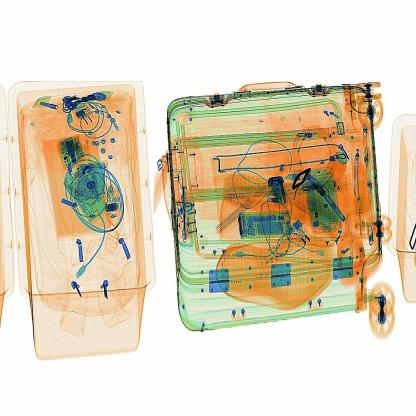knife: (177, 175, 199, 243)
